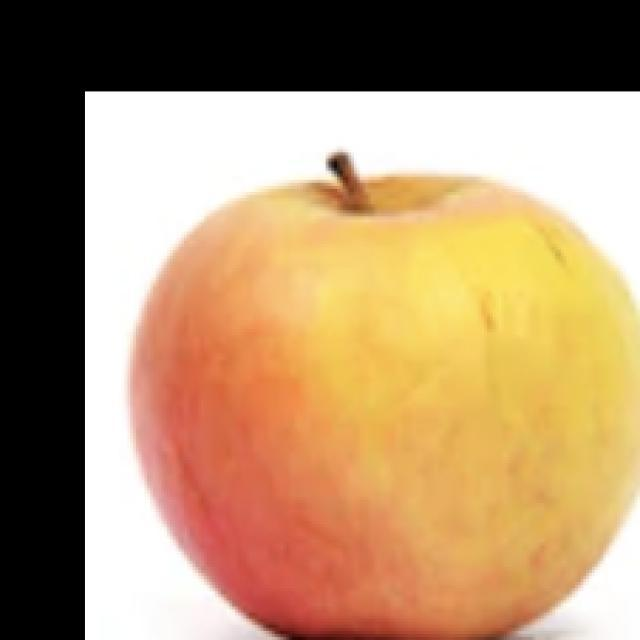Fresh Apple: (128, 164, 640, 640)
